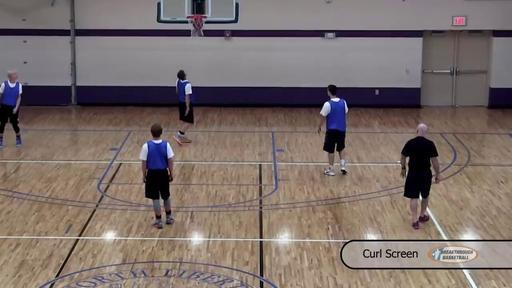ball: (192, 19, 204, 30)
human: (400, 123, 440, 229), (138, 123, 174, 229), (318, 84, 349, 176), (0, 70, 23, 146), (172, 70, 194, 146)
rim: (186, 16, 208, 39)
